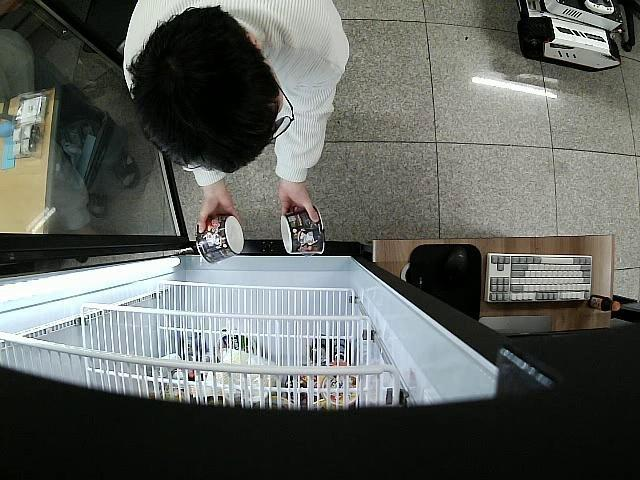07_buldak_L: (280, 201, 324, 256), (198, 214, 244, 266)
